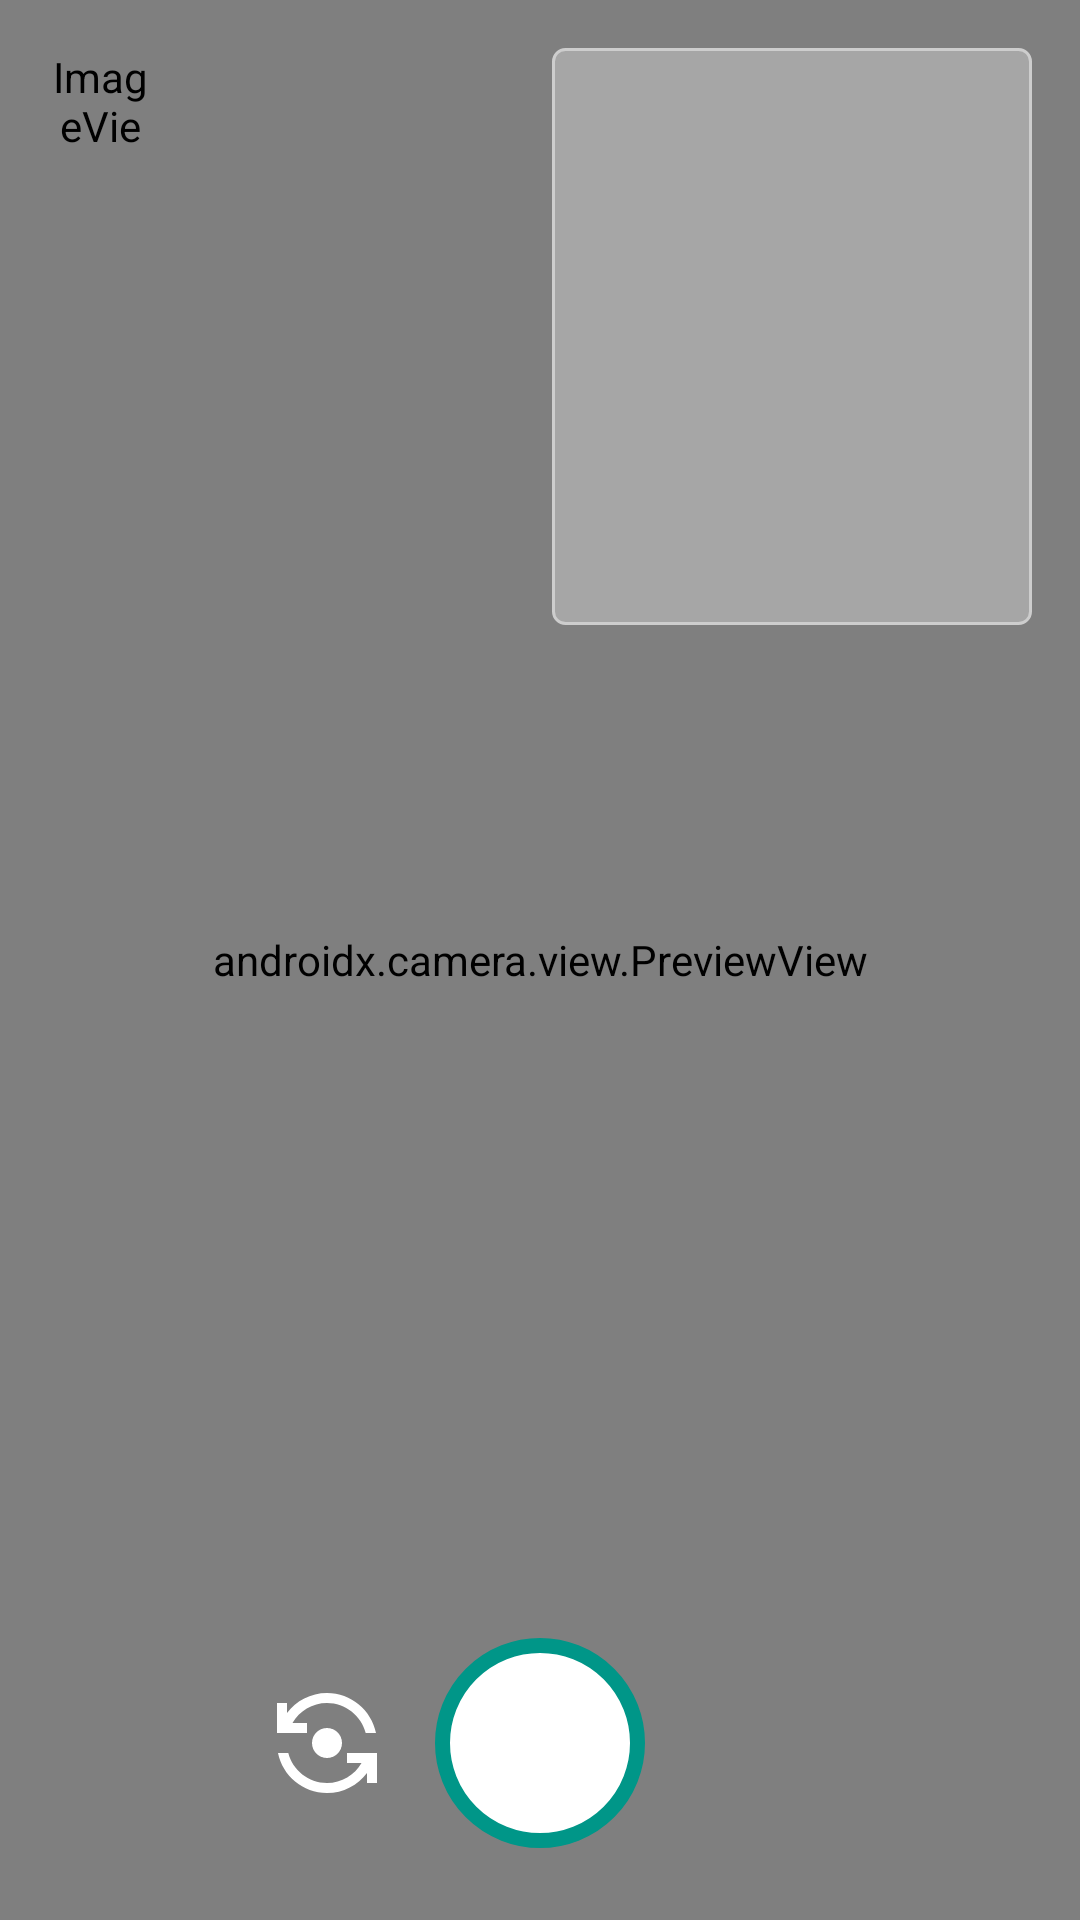

Screen size 1080×1920. Icon name, then its center in pixels as point (x, y):
flip camera: point (327, 1743)
